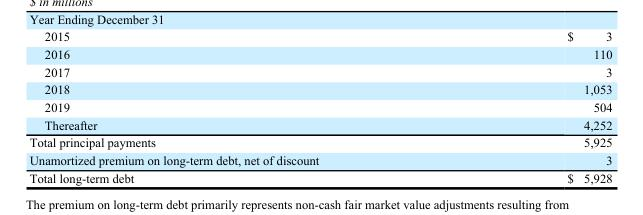table: (28, 28, 611, 184)
table column: (28, 28, 442, 184), (442, 28, 611, 184)
table row: (28, 44, 611, 62), (28, 62, 611, 80), (28, 97, 611, 115), (28, 115, 611, 133), (28, 150, 611, 168), (28, 80, 611, 97), (28, 133, 611, 150), (28, 28, 611, 44), (28, 168, 611, 184)
